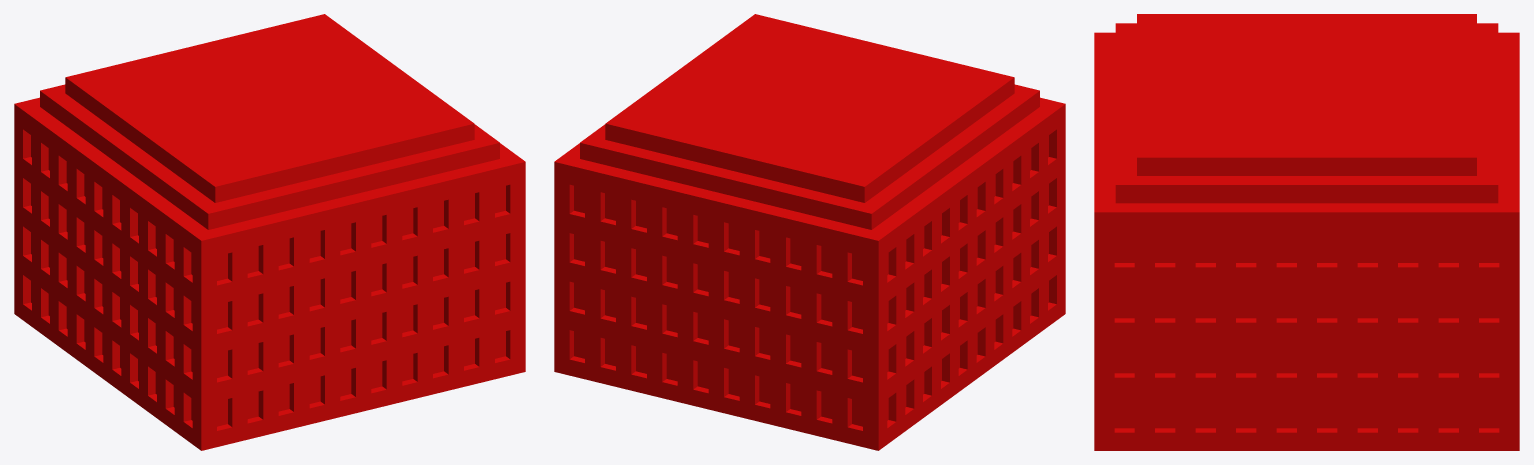
The model's file is roter_turm.fbx.
3 renders of one model, left to right at view 1: azimuth 30°, elevation 25°; view 2: azimuth 150°, elevation 25°; view 3: azimuth 270°, elevation 25°, orthographic. The views are drawn at different scales.
Parts seen in each view (by area): view 1: imagetostl_mesh0; view 2: imagetostl_mesh0; view 3: imagetostl_mesh0.
Part boxes in pixels (left/top/right/bottom): imagetostl_mesh0: left=14, top=14, right=525, bottom=450; imagetostl_mesh0: left=554, top=14, right=1065, bottom=450; imagetostl_mesh0: left=1094, top=14, right=1519, bottom=450.
Bounding box in the file's own units: 1050 × 750 × 1050.
